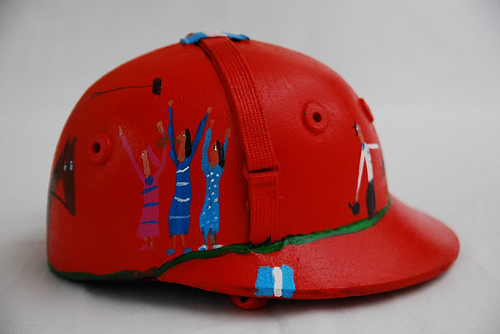helmet: (36, 49, 469, 290)
